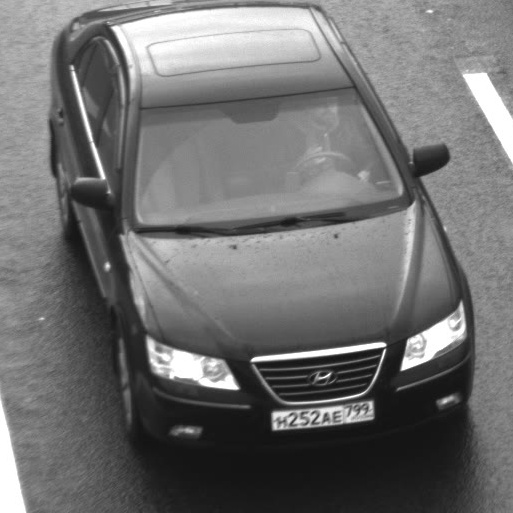plate: (262, 390, 383, 436)
